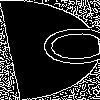O: (25, 25, 100, 69)
